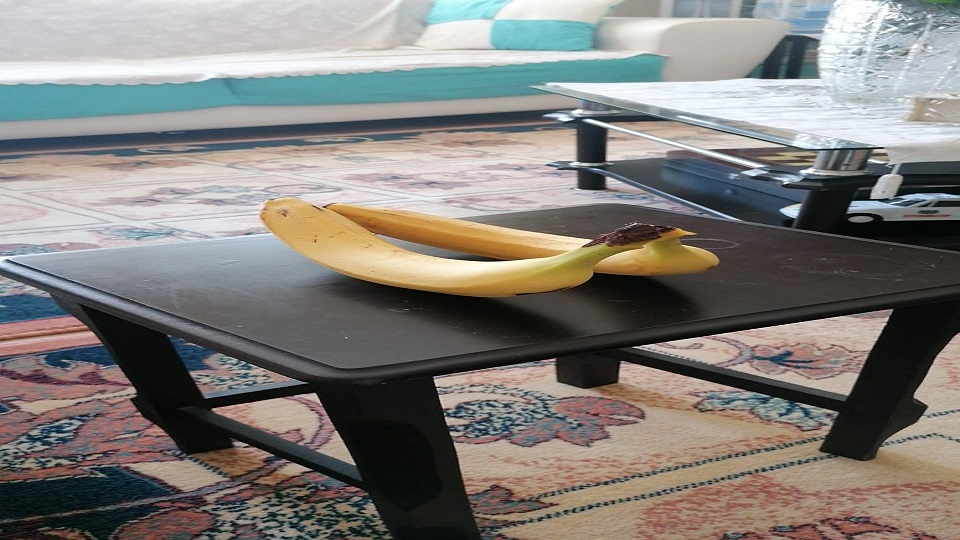muz: (258, 194, 664, 300), (318, 202, 721, 277)
